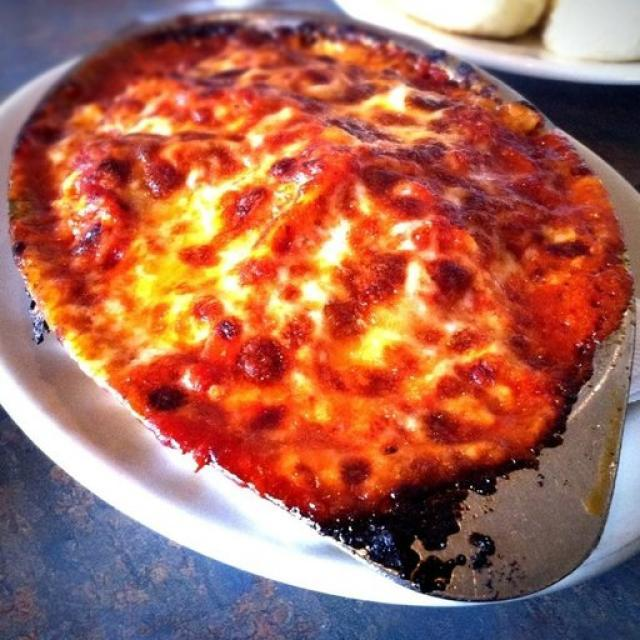Lasagna: (50, 30, 559, 534)
